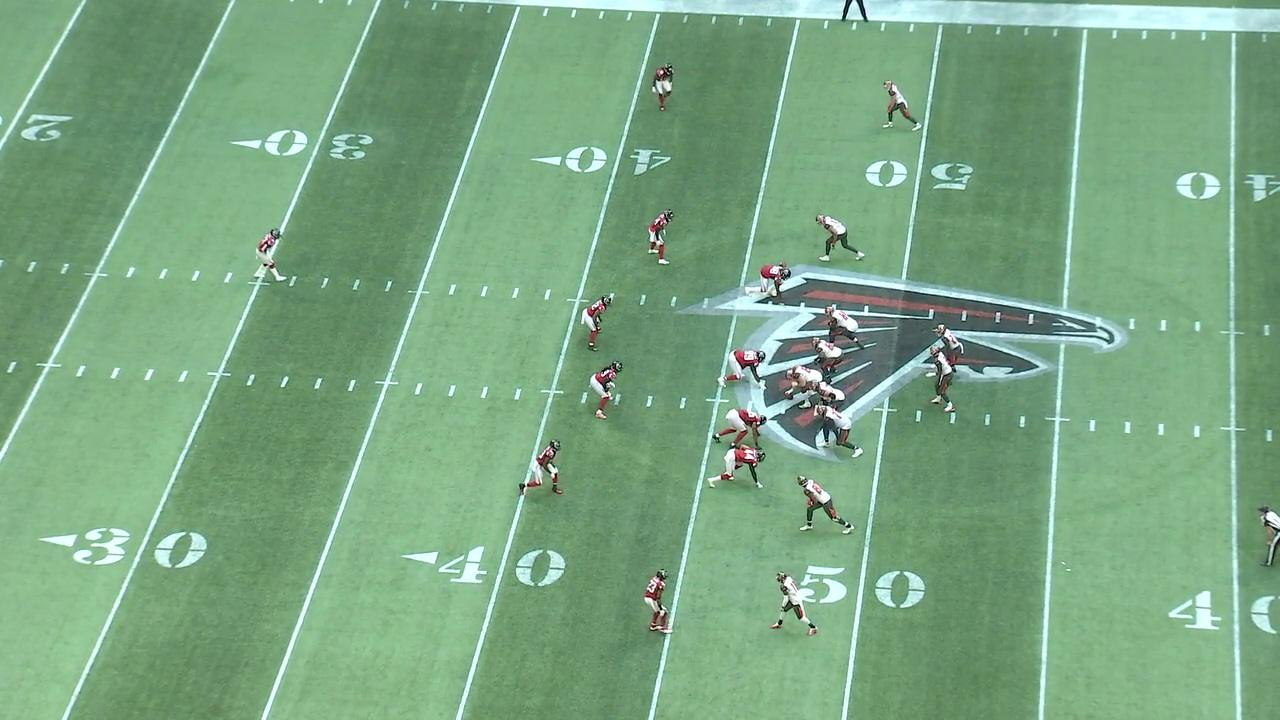defense: (706, 444, 767, 490), (518, 439, 563, 498), (711, 408, 768, 450), (716, 347, 769, 391), (587, 360, 624, 420), (644, 567, 675, 636), (744, 258, 793, 300), (253, 227, 288, 284), (580, 295, 613, 353), (647, 208, 675, 266), (649, 62, 677, 114)
oline: (817, 405, 865, 459), (824, 304, 865, 350), (784, 364, 824, 409), (810, 336, 845, 384), (809, 378, 846, 411)
qb: (929, 344, 959, 416)
ref: (1255, 502, 1280, 567)
skill: (796, 474, 856, 536), (768, 570, 819, 637), (814, 212, 866, 263), (880, 79, 923, 133), (934, 321, 965, 374)
